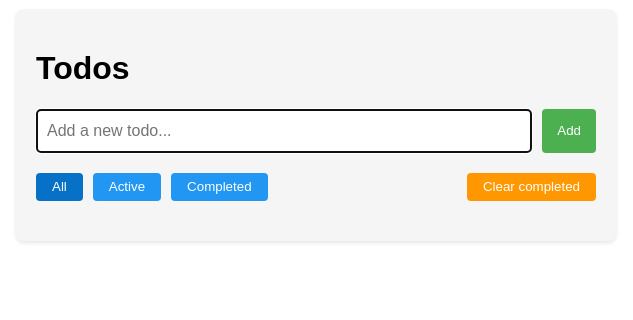
it: Todos App › should add a valid todo item
Type "New todo item" into the field with placeholder "Add a new todo..." at (284, 131), box x1=36 y1=109 x2=532 y2=153
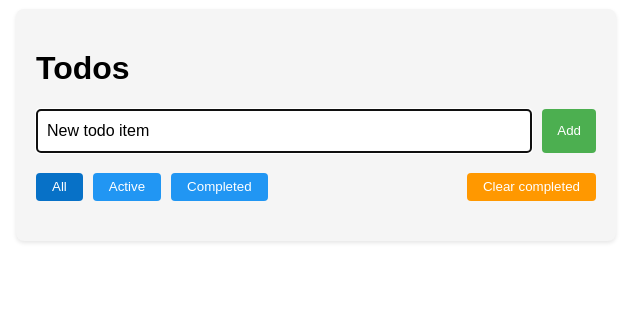
Click the button "Add" at (569, 131), box x1=542 y1=109 x2=596 y2=153
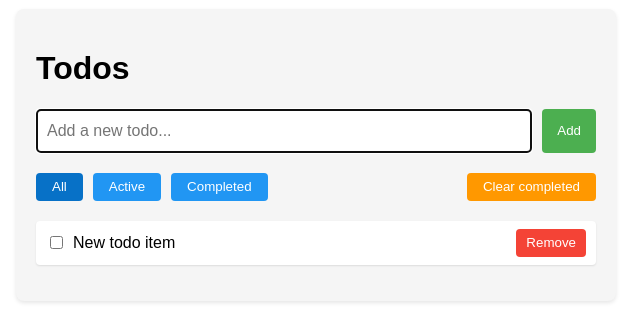
Result: the text "New todo item" is shown at x1=73 y1=234 x2=175 y2=251
Result: the field with placeholder "Add a new todo..." is empty at x1=36 y1=109 x2=532 y2=153
